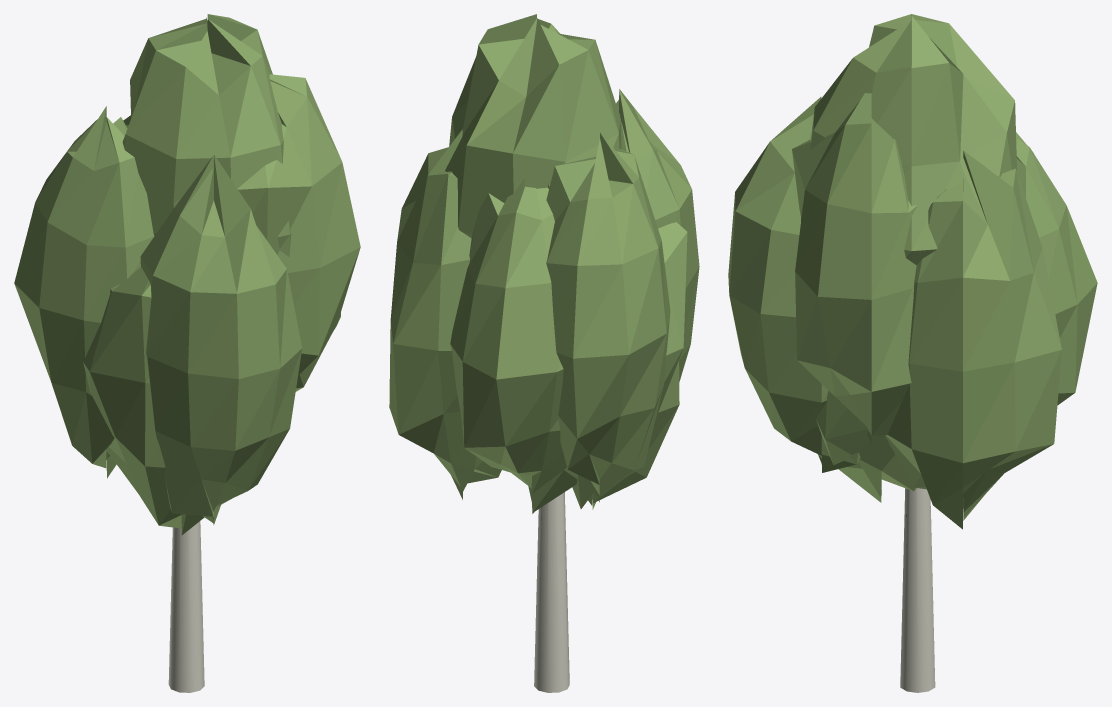
Rendered from birch_tree_variant_02.glb.
3 views of the same model, side by side, from view 1: azimuth 30°, elevation 25°; view 2: azimuth 150°, elevation 25°; view 3: azimuth 270°, elevation 25° (orthographic). The views are drawn at different scales.
Visible parts, largest first — view 1: static_leaf_light, static_birch_bark; view 2: static_leaf_light, static_birch_bark; view 3: static_leaf_light, static_birch_bark.
Boxes of the visible parts, x1=… form: static_leaf_light: x1=14, y1=14, x2=360, y2=535; static_birch_bark: x1=168, y1=521, x2=204, y2=692; static_leaf_light: x1=389, y1=14, x2=699, y2=513; static_birch_bark: x1=534, y1=492, x2=569, y2=692; static_leaf_light: x1=728, y1=14, x2=1097, y2=529; static_birch_bark: x1=900, y1=488, x2=935, y2=692.
Size of the model in its own units: 3.38 by 8.17 by 4.03.
